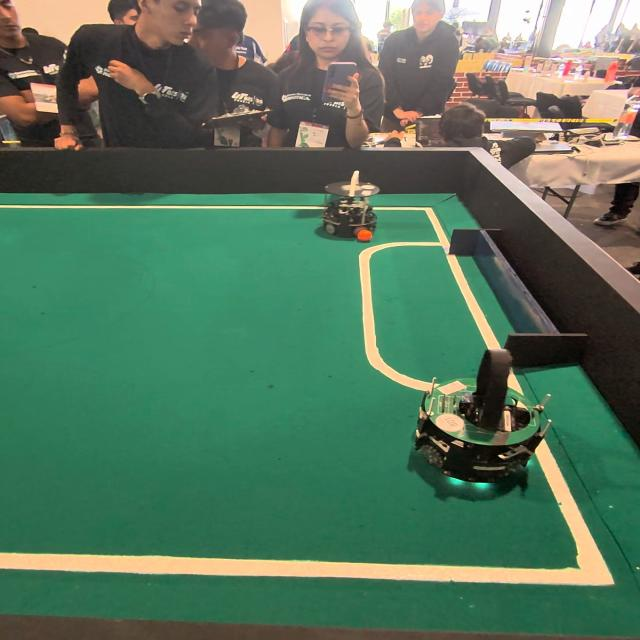Robot: (406, 345, 570, 514), (316, 171, 384, 246)
pelota: (351, 225, 378, 252)
